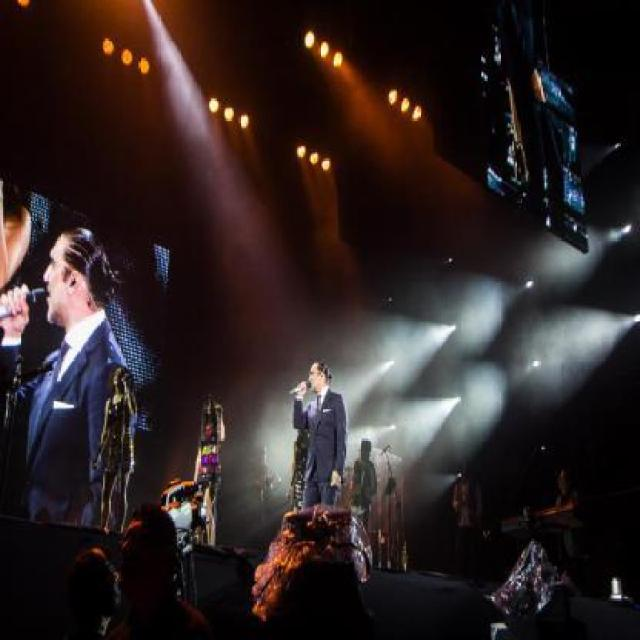Person: (57, 362, 588, 638), (0, 225, 142, 523)
